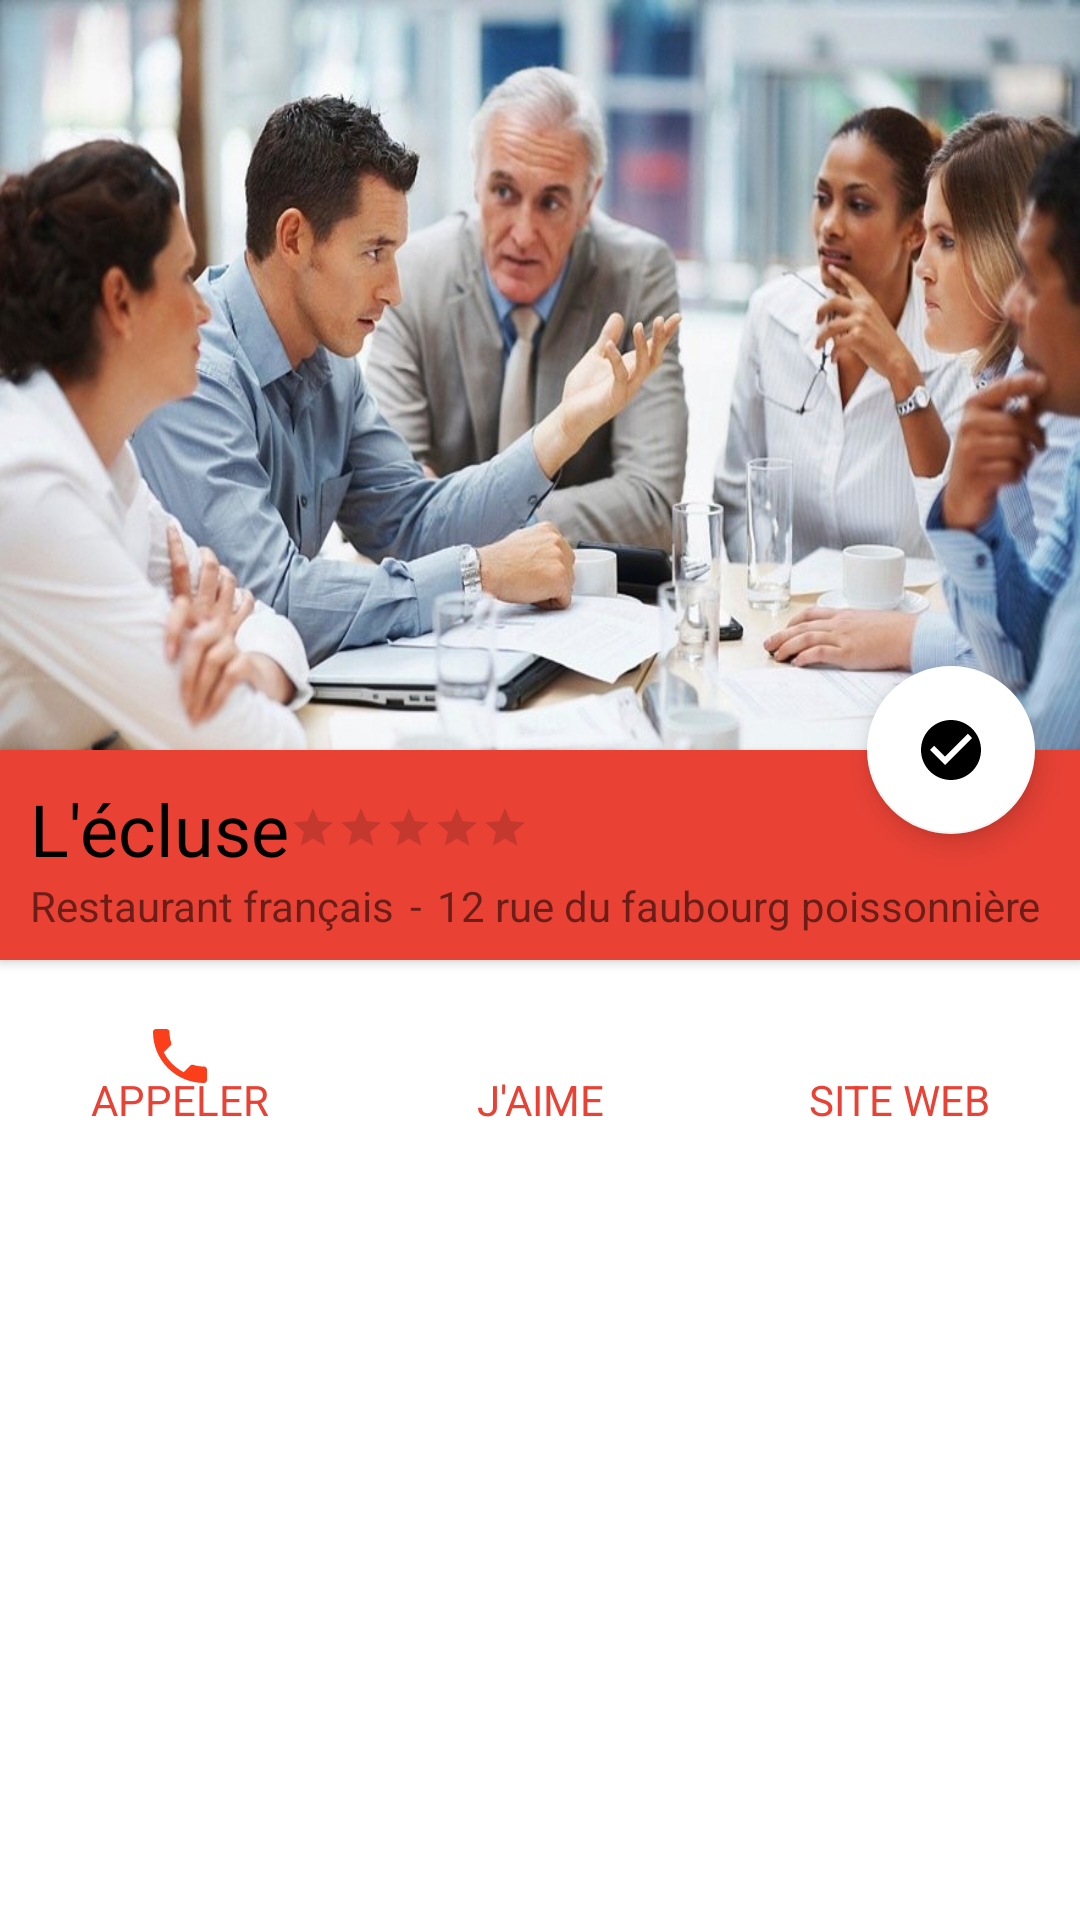

Screen size 1080*1920. Icon name, then its center in pixels as point (x, y):
contenu description details activity floating bouton: point (951, 750)
